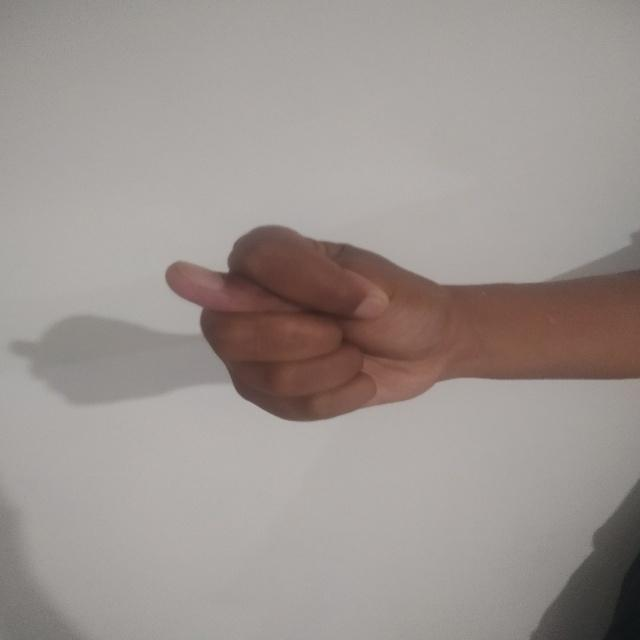Dulya: (156, 219, 483, 433)
